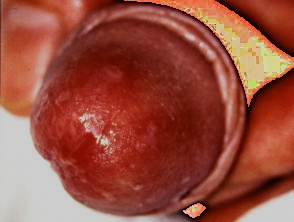SJS-TEN: (20, 0, 270, 222)
